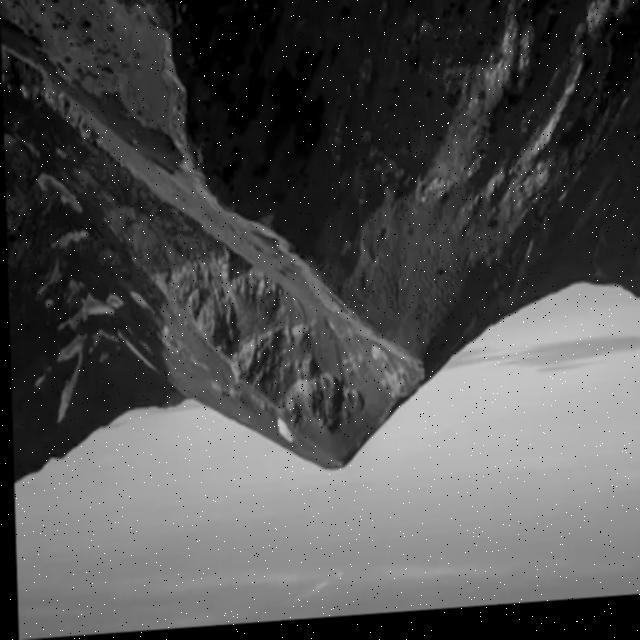Kopa Kondracka: (183, 341, 492, 589)
